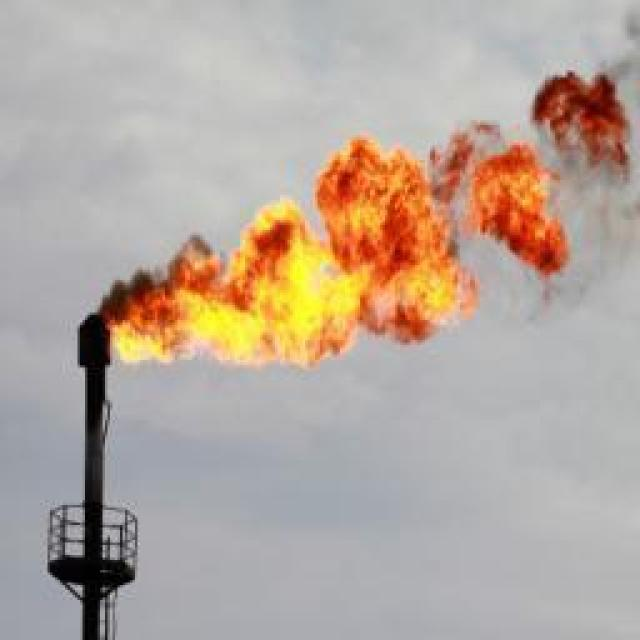fire: (96, 122, 570, 369), (531, 71, 631, 167)
smoke: (525, 117, 640, 328), (595, 4, 639, 152)
